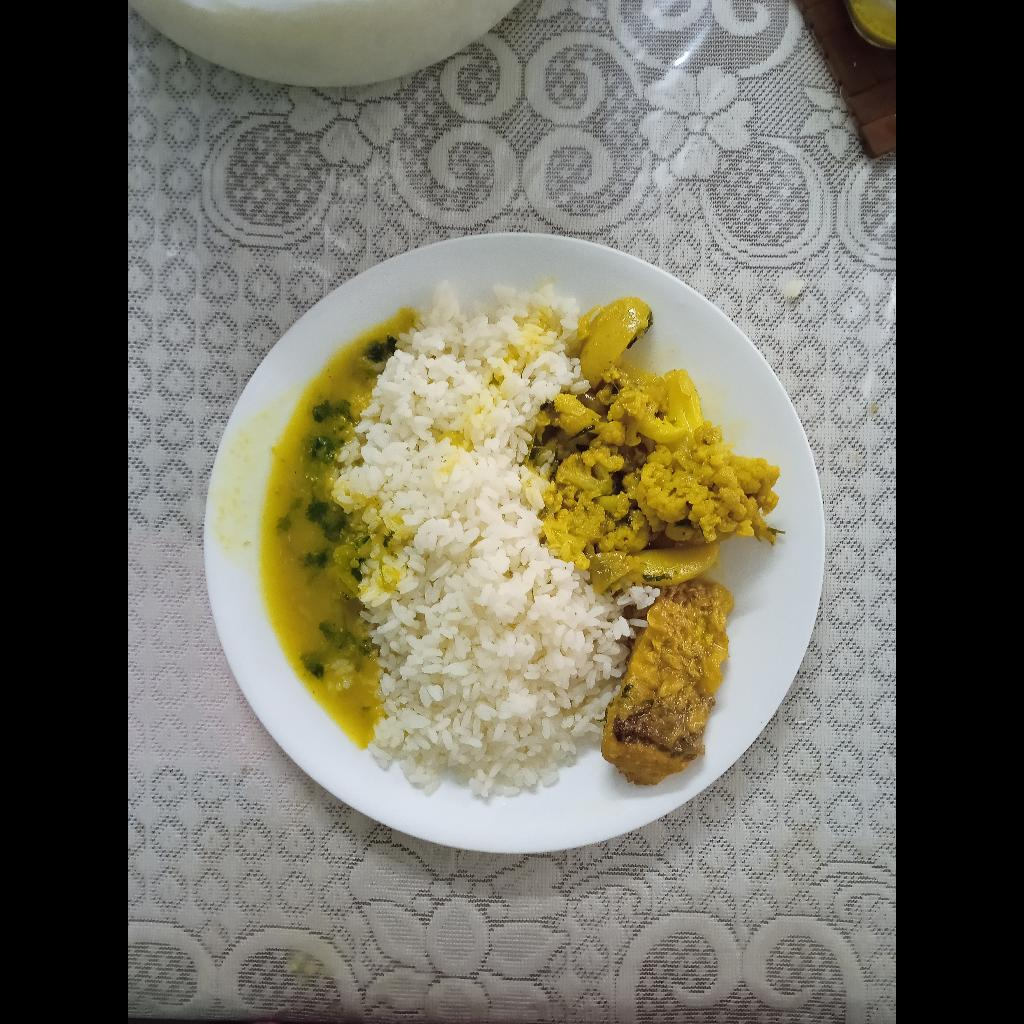cauliflower: (535, 292, 781, 592)
daal: (259, 307, 420, 752)
fish: (600, 582, 735, 788)
rice: (340, 275, 626, 801)
